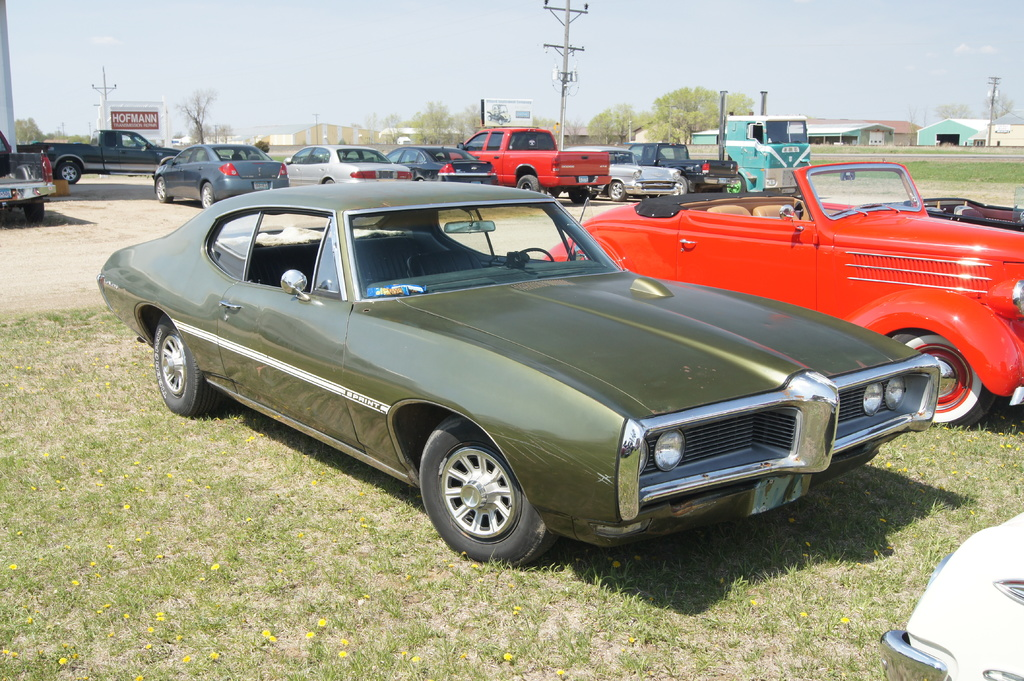Car: (94, 183, 936, 563), (542, 160, 1023, 425), (156, 139, 286, 205), (283, 145, 416, 181), (593, 146, 684, 197), (387, 144, 496, 181)
